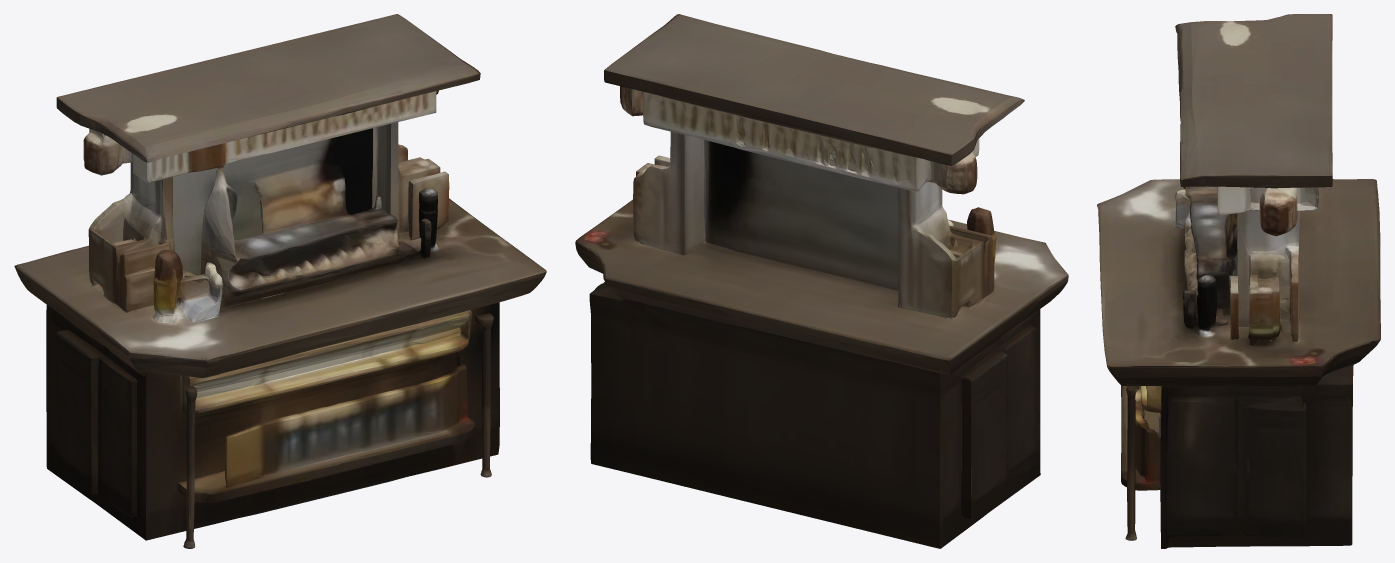
3 renders of one model, left to right at view 1: azimuth 30°, elevation 25°; view 2: azimuth 150°, elevation 25°; view 3: azimuth 270°, elevation 25°, orthographic. The views are drawn at different scales.
Visible parts, largest first — view 1: geometry_0; view 2: geometry_0; view 3: geometry_0.
Part boxes in pixels (x1,y1,x2,y2): geometry_0: [14, 14, 546, 548]; geometry_0: [575, 14, 1068, 548]; geometry_0: [1097, 14, 1380, 548].
Bounding box in the file's own units: 0.9989 × 0.9204 × 0.6386.
1 material, 1 textured.
